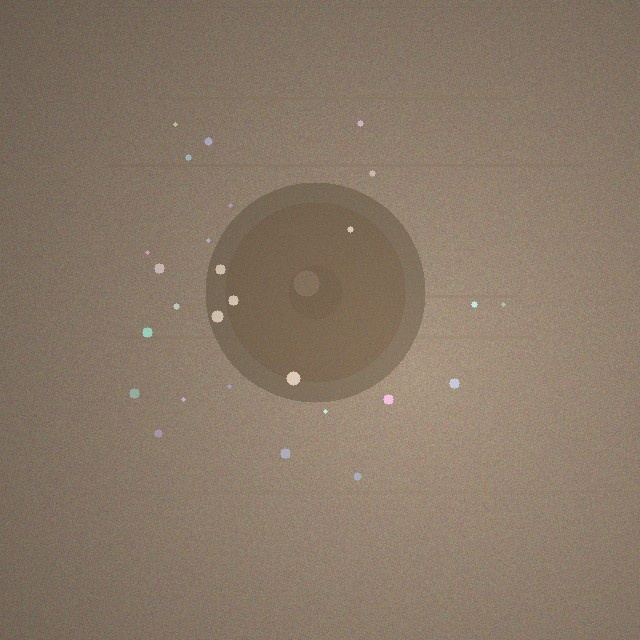overburn: (205, 182, 425, 402)
